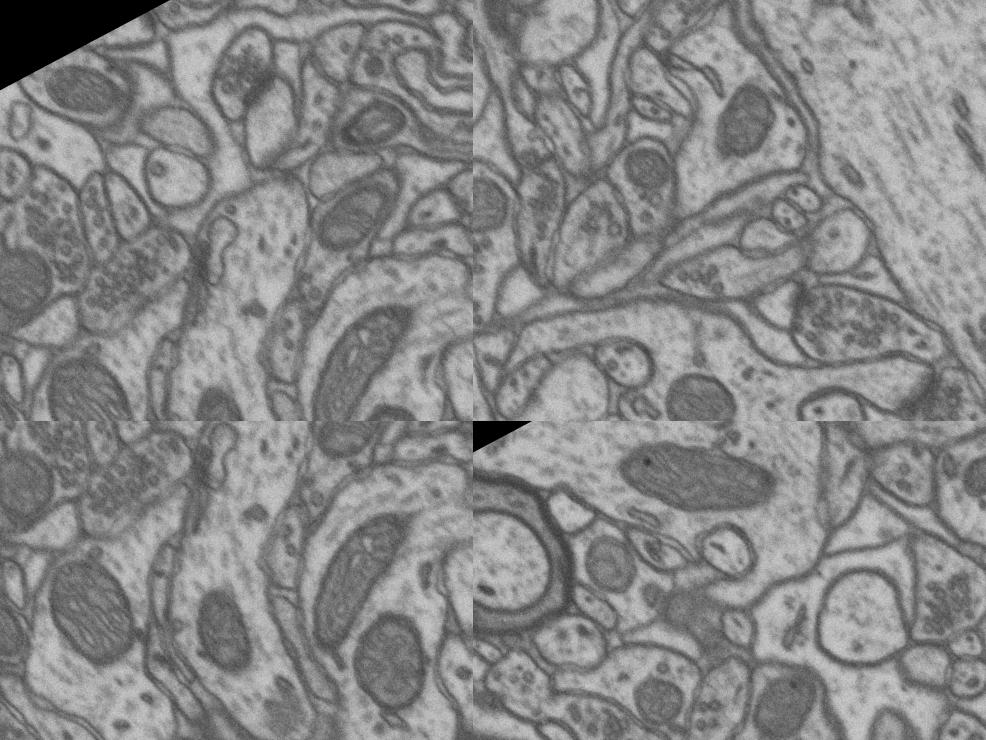mitochondria: (272, 489, 459, 654), (605, 421, 795, 568), (270, 282, 457, 421), (23, 541, 156, 690), (326, 588, 462, 728), (694, 44, 804, 160), (35, 40, 148, 152), (20, 335, 153, 421), (302, 162, 416, 262), (175, 582, 273, 694), (726, 656, 838, 740), (639, 348, 764, 421), (563, 516, 656, 612), (592, 137, 690, 227), (473, 0, 570, 78), (614, 656, 699, 740), (0, 443, 72, 541), (0, 237, 70, 335), (473, 166, 532, 276), (332, 86, 415, 162), (323, 381, 460, 421), (303, 421, 417, 468), (173, 375, 271, 421), (0, 586, 40, 677), (943, 436, 986, 515), (316, 0, 422, 19), (0, 380, 38, 421)
